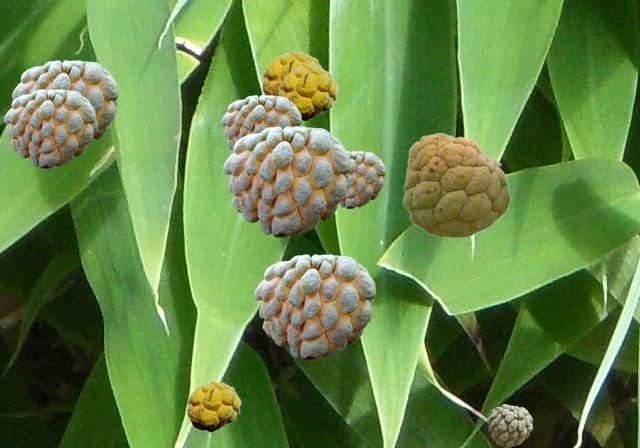atis: (223, 126, 349, 236), (254, 254, 374, 359), (402, 132, 509, 237), (12, 60, 117, 145), (4, 89, 94, 167), (221, 95, 300, 150), (278, 64, 337, 120), (186, 380, 240, 431), (261, 50, 322, 94), (339, 151, 384, 207), (487, 404, 531, 446)
